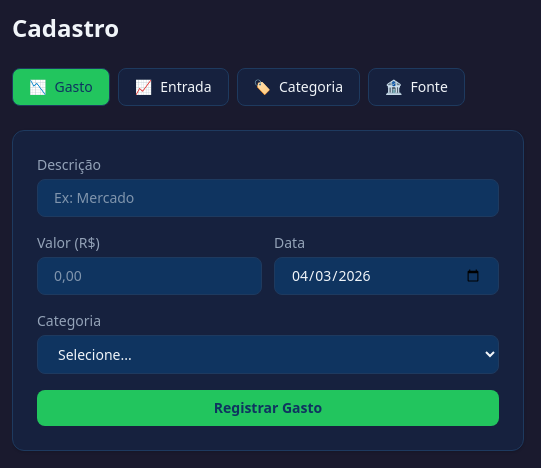
Test case: PaginaCadastro › cria uma categoria com sucesso
Click the button "🏷️ Categoria" at [298, 87], box [236, 68, 360, 106]
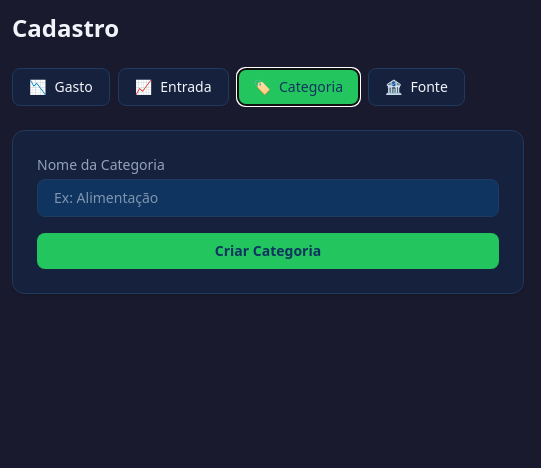
Expected: the button "Criar Categoria" is shown, [37, 233, 499, 269]
Type "Lazer" into the field labelled "Nome da Categoria" at [268, 198], box [37, 179, 499, 217]
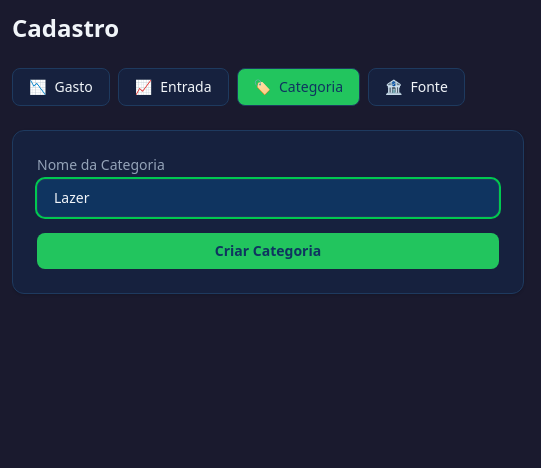
Click the button "Criar Categoria" at [268, 251], box [37, 233, 499, 269]
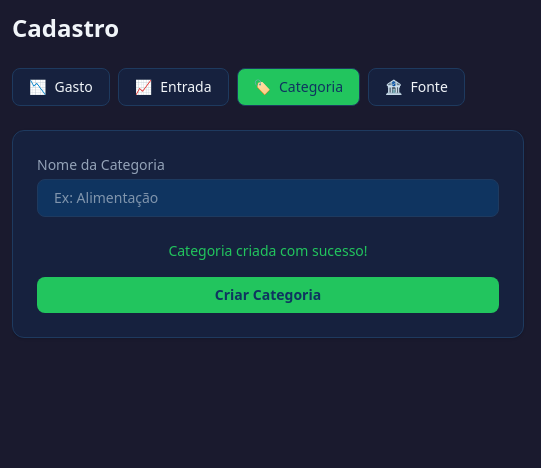
Expected: the text "Categoria criada com sucesso!" is shown, [168, 241, 368, 260]
